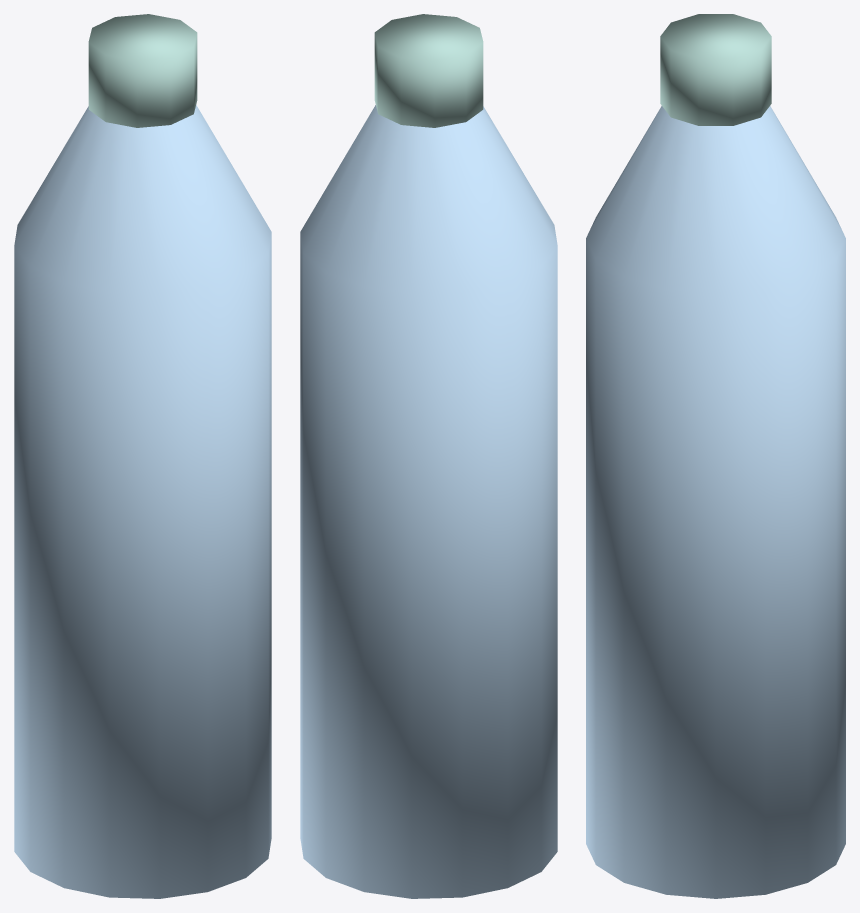
The model's file is SM_WaterBottle.fbx.
The picture shows the model from 3 angles, left to right: view 1: azimuth 30°, elevation 25°; view 2: azimuth 150°, elevation 25°; view 3: azimuth 270°, elevation 25°; orthographic projection.
Visible parts, largest first — view 1: SM_WaterBottle; view 2: SM_WaterBottle; view 3: SM_WaterBottle.
Part boxes in pixels (box(x1,y1,x2,y2)): SM_WaterBottle: box(14, 14, 271, 898); SM_WaterBottle: box(300, 14, 557, 898); SM_WaterBottle: box(586, 14, 845, 898).
Bounding box in the file's own units: 0.07 × 0.24 × 0.07.
